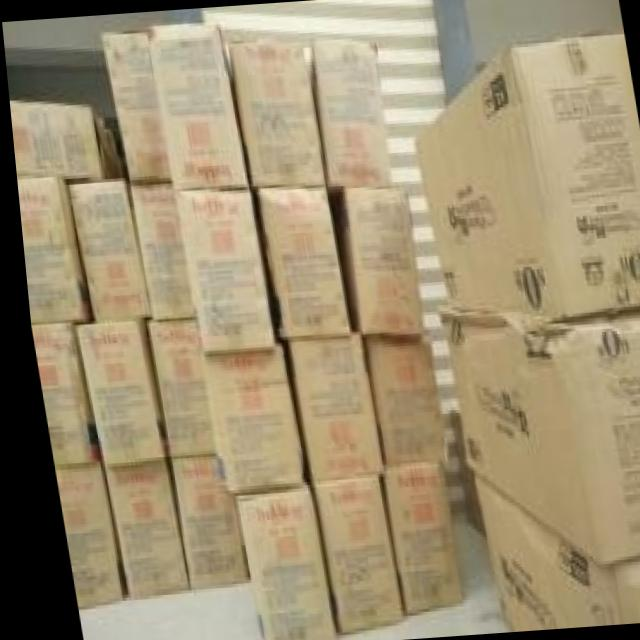box: (411, 31, 640, 319), (431, 305, 640, 567), (463, 467, 640, 632), (167, 189, 270, 354), (143, 26, 245, 192), (274, 334, 376, 487), (222, 487, 324, 640), (302, 476, 394, 638), (248, 187, 345, 340), (197, 345, 297, 493), (65, 320, 162, 467), (229, 42, 322, 189), (327, 190, 415, 336), (372, 463, 450, 616), (311, 38, 390, 189), (95, 459, 179, 597), (65, 180, 143, 320), (13, 175, 85, 325), (98, 32, 168, 183), (357, 340, 436, 473), (142, 316, 212, 462), (160, 458, 236, 590), (25, 319, 92, 464), (47, 464, 114, 609), (8, 102, 121, 179), (126, 183, 189, 319)
